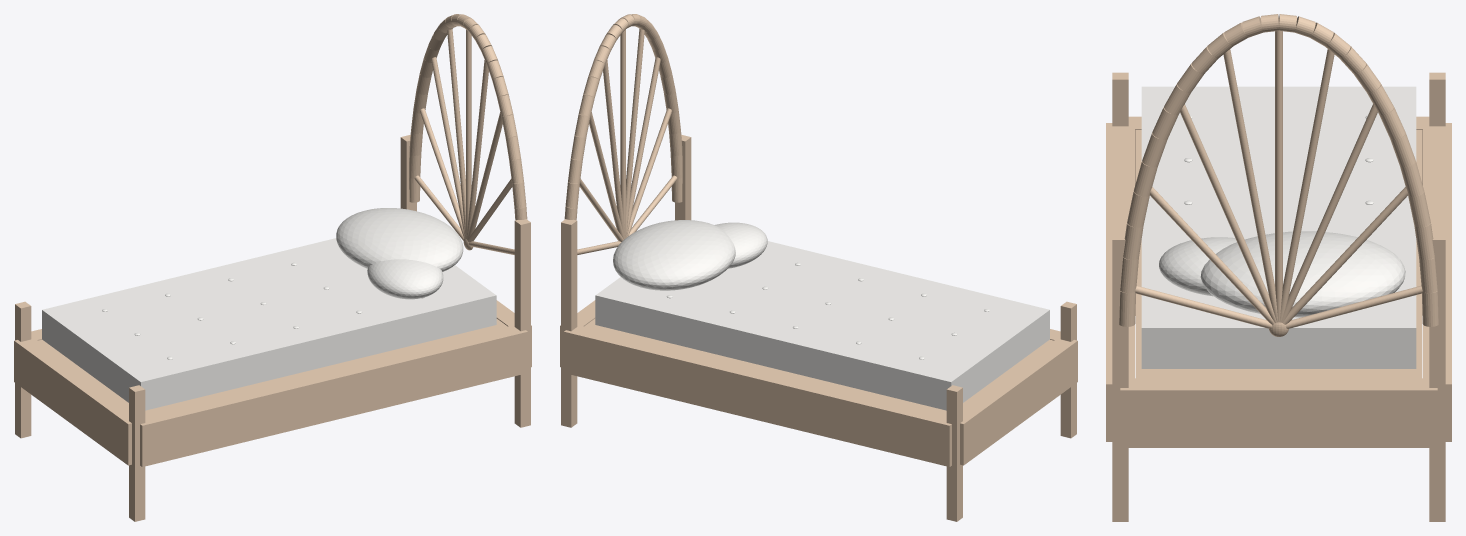
Rendered from tootoo1_oak_youth.glb.
3 views of the same model, side by side, from view 1: azimuth 30°, elevation 25°; view 2: azimuth 150°, elevation 25°; view 3: azimuth 270°, elevation 25° (orthographic). The views are drawn at different scales.
Visible parts, largest first — view 1: Mattress, Front_Apron, Foot_Apron, Pillow_Large, Head_Front_Post, Pillow_Small, Mattress_Support, Foot_Front_Post, Foot_Back_Post, Sunray_3, Sunray_4, Sunray_2 (+4 smaller); view 2: Mattress, Back_Apron, Pillow_Large, Foot_Apron, Head_Back_Post, Mattress_Support, Foot_Back_Post, Foot_Front_Post, Pillow_Small, Sunray_5, Sunray_4, Sunray_6 (+4 smaller); view 3: Mattress, Head_Apron, Pillow_Large, Mattress_Support, Front_Apron, Back_Apron, Head_Back_Post, Head_Front_Post, Sunray_3, Sunray_5, Sunray_4, Pillow_Small (+27 smaller).
Part boxes in pixels (box(x1,y1,x2,y2)): Mattress: box(42, 238, 496, 410); Front_Apron: box(140, 325, 527, 466); Foot_Apron: box(14, 336, 131, 465); Pillow_Large: box(336, 208, 463, 271); Head_Front_Post: box(514, 219, 530, 427); Pillow_Small: box(367, 259, 443, 299); Mattress_Support: box(38, 319, 507, 414); Foot_Front_Post: box(129, 385, 145, 521); Foot_Back_Post: box(15, 301, 31, 438); Sunray_3: box(447, 29, 465, 238); Sunray_4: box(466, 30, 471, 238); Sunray_2: box(431, 57, 465, 238); Mattress: box(595, 241, 1049, 410); Back_Apron: box(564, 326, 951, 466); Pillow_Large: box(613, 220, 735, 290); Foot_Apron: box(946, 340, 1077, 465); Head_Back_Post: box(561, 219, 577, 427); Mattress_Support: box(584, 318, 1053, 414); Foot_Back_Post: box(946, 385, 962, 521); Foot_Front_Post: box(1060, 301, 1076, 438); Pillow_Small: box(715, 222, 767, 268); Sunray_5: box(626, 29, 644, 237); Sunray_4: box(620, 29, 625, 238); Sunray_6: box(626, 57, 660, 237); Mattress: box(1141, 86, 1416, 368); Head_Apron: box(1120, 378, 1437, 447); Pillow_Large: box(1200, 231, 1405, 317); Mattress_Support: box(1135, 130, 1422, 378); Front_Apron: box(1106, 123, 1134, 441); Back_Apron: box(1423, 123, 1451, 441); Head_Back_Post: box(1429, 233, 1445, 521); Head_Front_Post: box(1112, 233, 1128, 521); Sunray_3: box(1279, 49, 1334, 322); Sunray_5: box(1223, 49, 1278, 322); Sunray_4: box(1275, 31, 1282, 322); Pillow_Small: box(1159, 237, 1236, 296).
Size of the model in its own units: 2.14 by 1.85 by 1.14.
